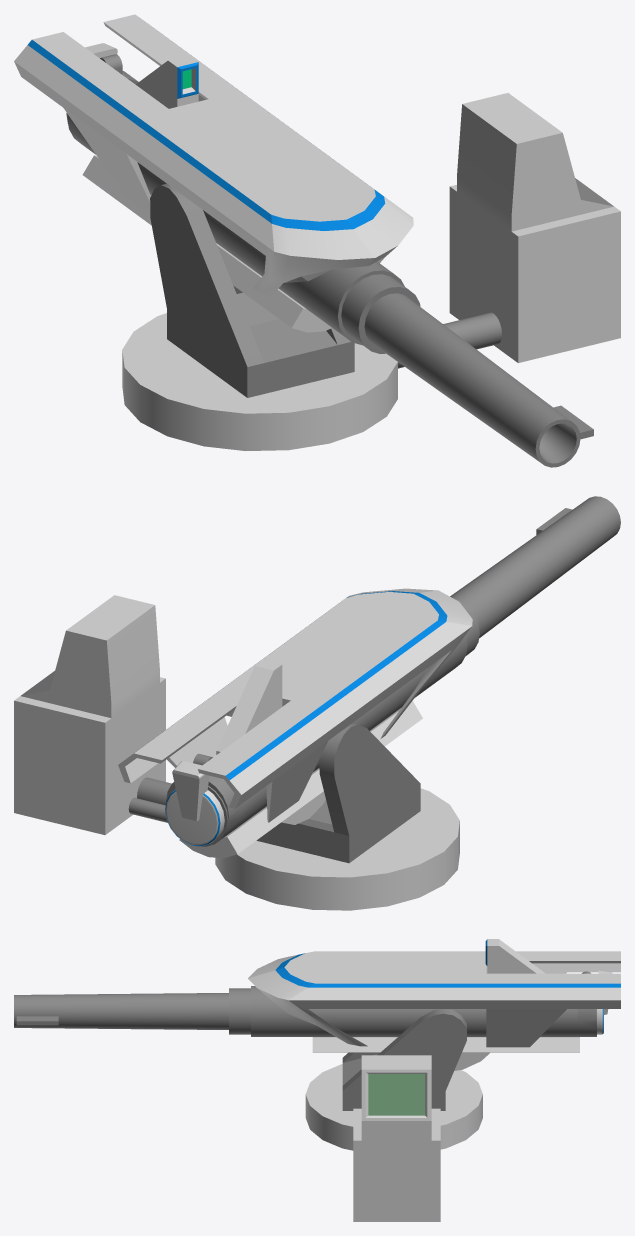
File: Cannon_fixed_1.fbx
3 renders of one model, top to bottom at view 1: azimuth 30°, elevation 25°; view 2: azimuth 150°, elevation 25°; view 3: azimuth 270°, elevation 25°, orthographic. The views are drawn at different scales.
Parts seen in each view (by area): view 1: pCylinder63, pCube7, pCylinder62, pCube12, pCylinder59; view 2: pCylinder63, pCube7, pCylinder62, pCube12, pCylinder59, pCylinder60; view 3: pCylinder63, pCube7, pCylinder62, pCube12.
Boxes of the visible parts, bbox=[...] form: pCylinder63: bbox=[14, 14, 593, 467]; pCube7: bbox=[449, 93, 620, 362]; pCylinder62: bbox=[122, 313, 397, 450]; pCube12: bbox=[150, 183, 354, 397]; pCylinder59: bbox=[398, 312, 501, 368]; pCylinder63: bbox=[118, 496, 620, 858]; pCube7: bbox=[14, 595, 165, 834]; pCylinder62: bbox=[215, 788, 459, 910]; pCube12: bbox=[256, 723, 420, 863]; pCylinder59: bbox=[137, 777, 171, 805]; pCylinder60: bbox=[128, 797, 167, 822]; pCylinder63: bbox=[14, 939, 620, 1070]; pCube7: bbox=[353, 1055, 440, 1221]; pCylinder62: bbox=[305, 1064, 482, 1150]; pCube12: bbox=[342, 1009, 466, 1110].
Bounding box in the file's own units: 117 × 68.75 × 214.
